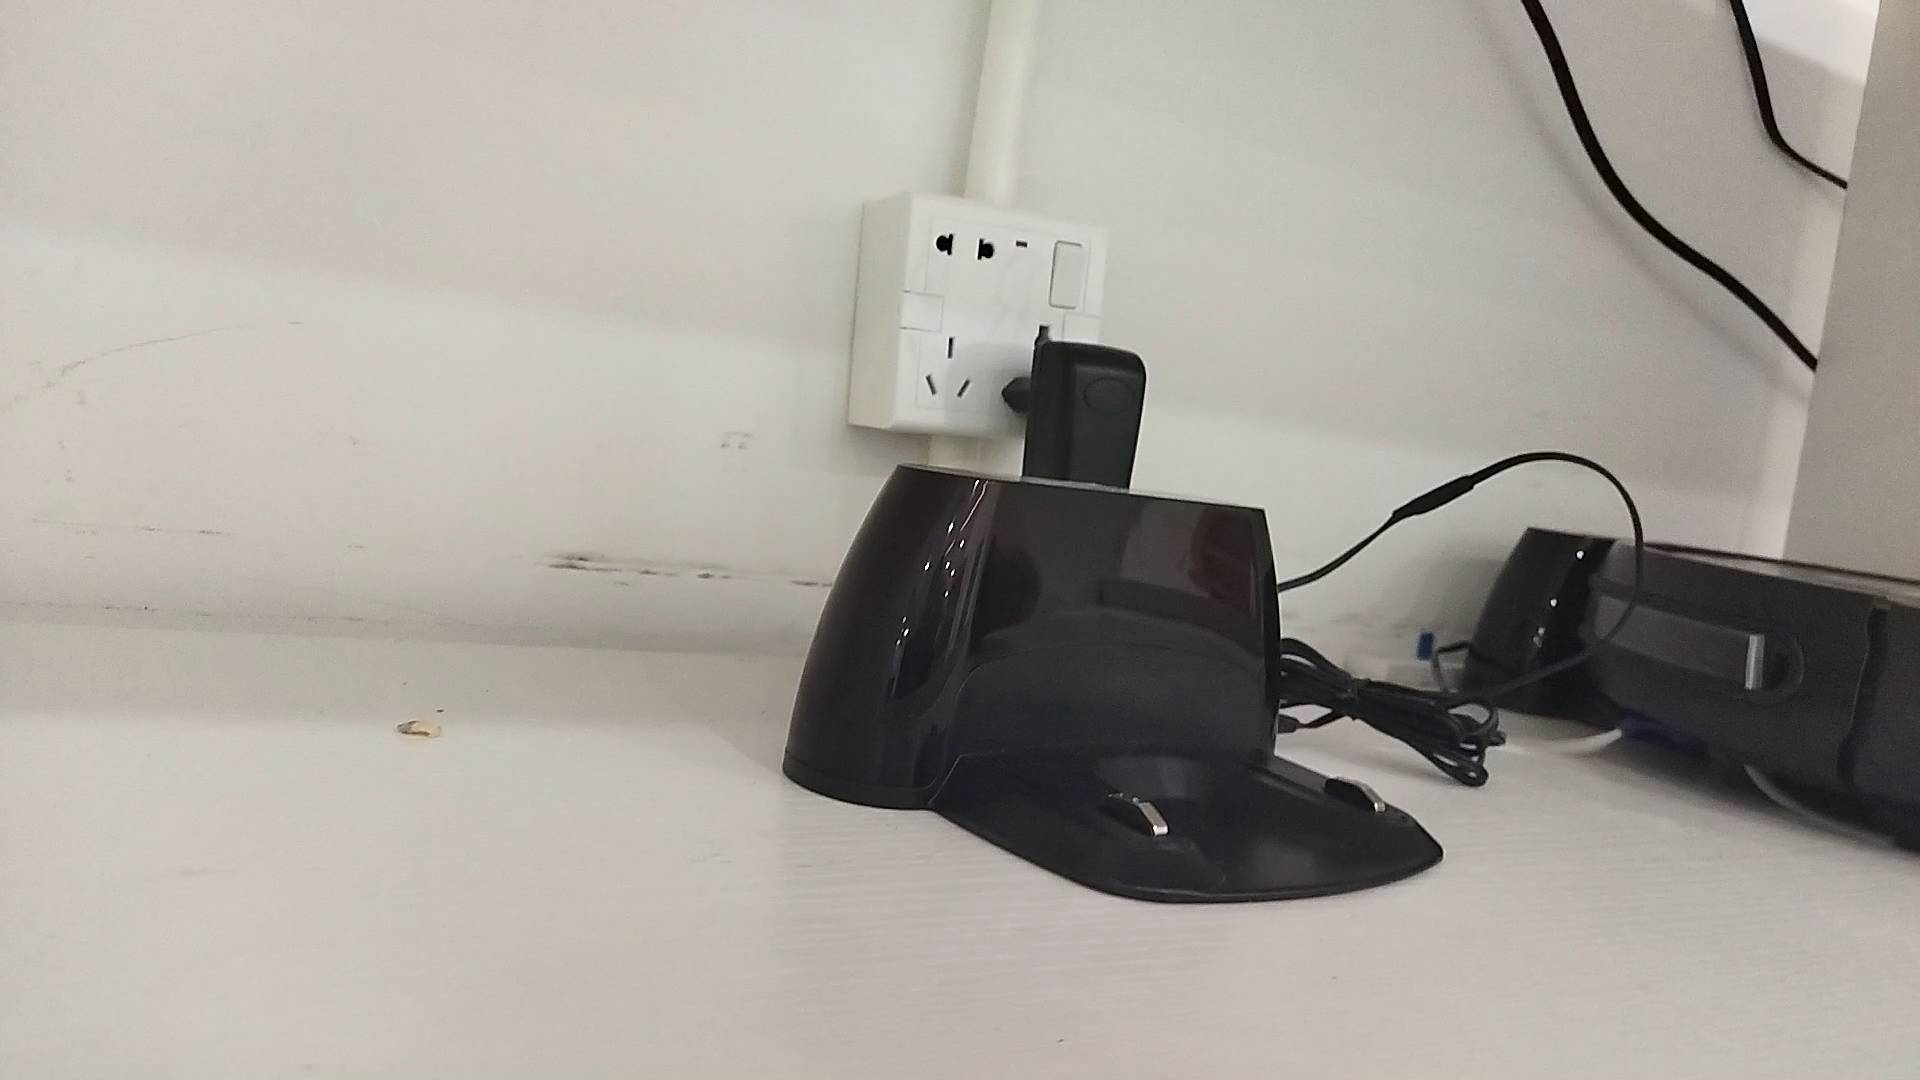recharge seat: (781, 464, 1443, 905)
